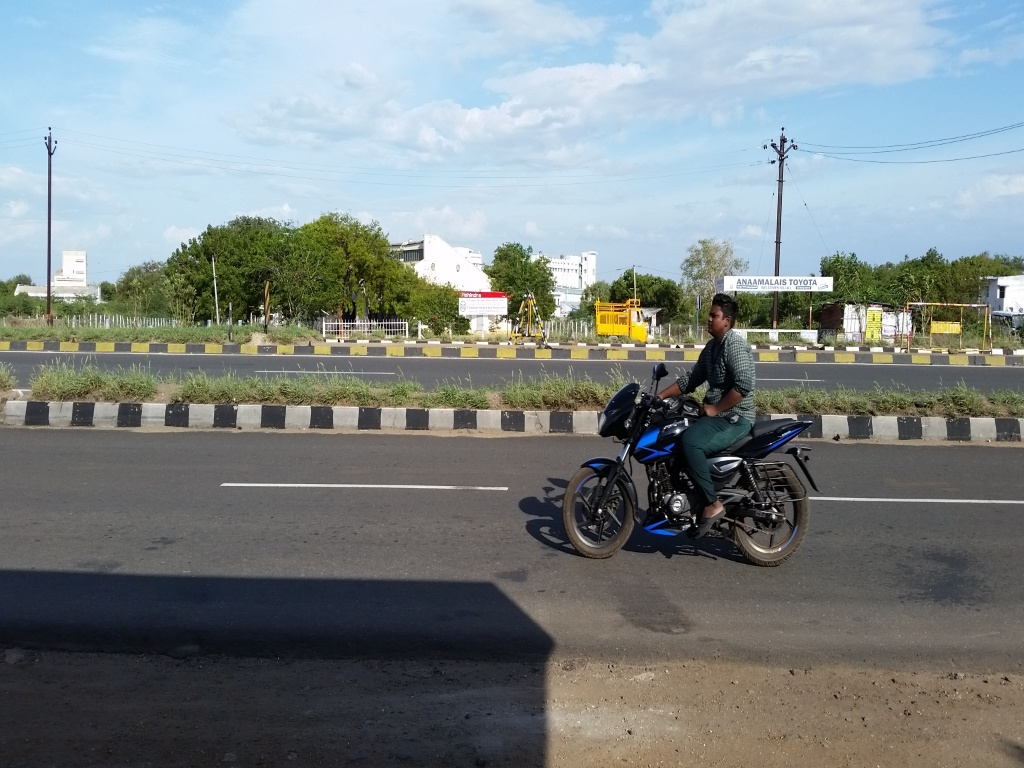biker: (548, 265, 833, 568)
nohelmet: (701, 286, 746, 355)
